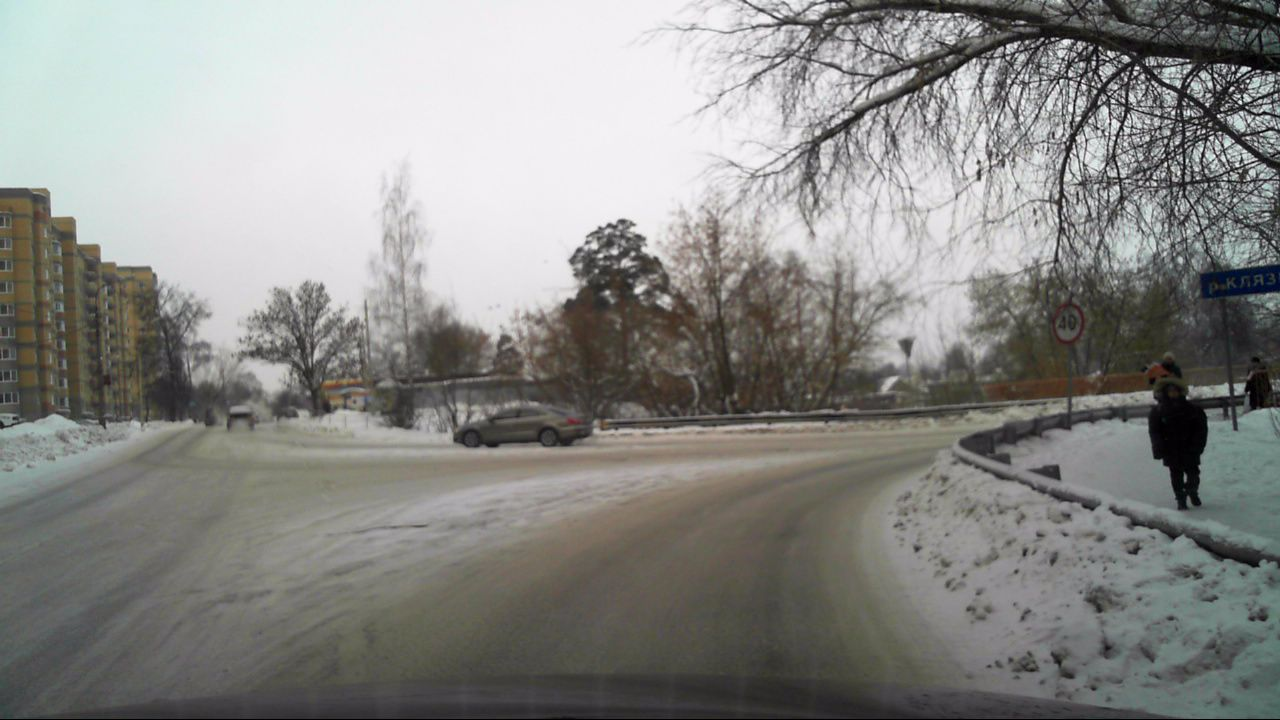speed_warning_40: (1052, 303, 1084, 342)
